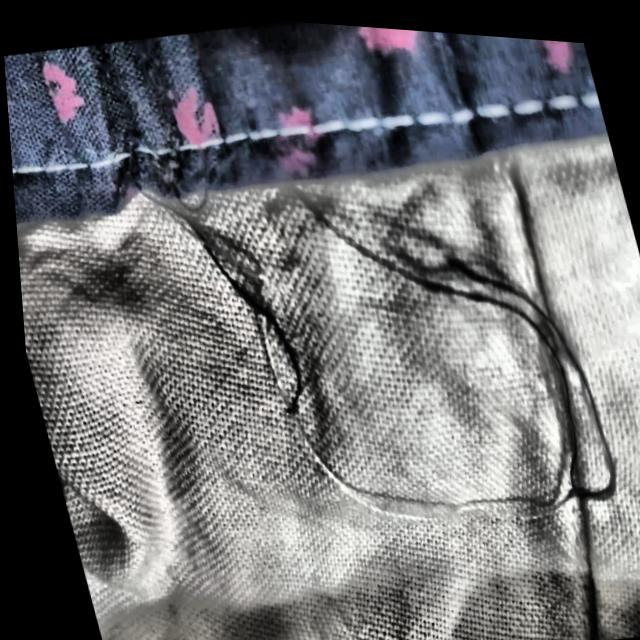Stitch: (281, 86, 640, 559), (65, 74, 336, 467)
